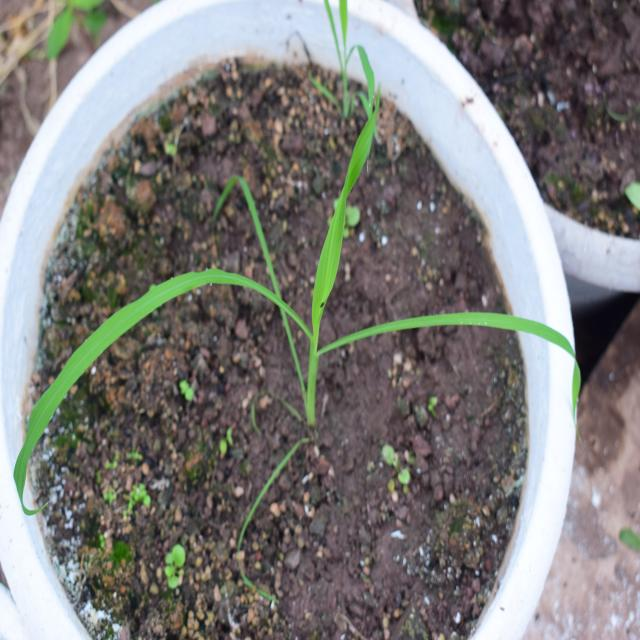barnyard_grass: (0, 132, 597, 450)
